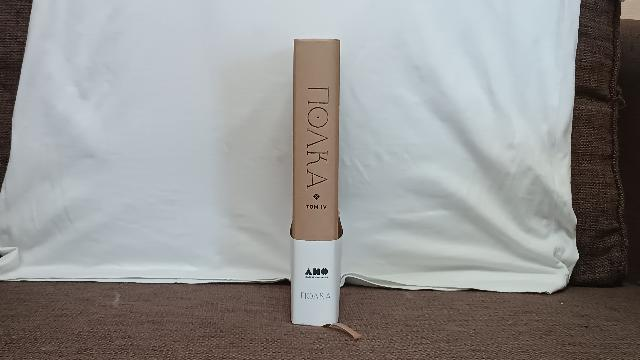book-s-spine: (292, 39, 339, 326)
